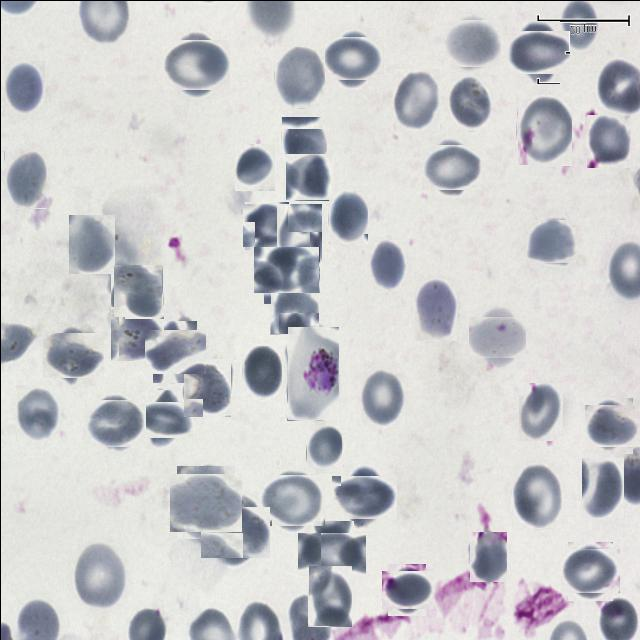red blood cell: (172, 468, 238, 534), (516, 94, 572, 165), (72, 541, 126, 610), (204, 501, 265, 561), (165, 34, 225, 94), (263, 470, 321, 529), (511, 462, 561, 528), (273, 46, 324, 108), (303, 526, 359, 582), (258, 242, 314, 298), (337, 469, 391, 524), (88, 396, 142, 450), (110, 306, 164, 360), (392, 68, 439, 130), (275, 203, 321, 266), (147, 324, 200, 378), (424, 140, 477, 193), (511, 25, 564, 78), (180, 361, 233, 414), (46, 328, 99, 380), (68, 214, 114, 273), (413, 277, 456, 340), (326, 32, 378, 84), (564, 544, 616, 596), (446, 16, 498, 68), (307, 565, 351, 626), (360, 367, 404, 426), (518, 382, 562, 440), (269, 282, 318, 334), (581, 457, 623, 517), (586, 400, 636, 450), (112, 264, 162, 314), (472, 312, 522, 362), (3, 150, 46, 208), (15, 382, 59, 438), (447, 76, 491, 131), (280, 116, 326, 167), (586, 114, 630, 167), (139, 394, 187, 442), (526, 217, 574, 264), (286, 153, 332, 200), (241, 344, 281, 398), (327, 190, 367, 244), (4, 60, 44, 113), (243, 202, 289, 248), (384, 566, 428, 612), (468, 531, 507, 582), (368, 239, 406, 291), (234, 143, 274, 190), (305, 425, 341, 472)
trophozoite: (286, 326, 338, 420)
